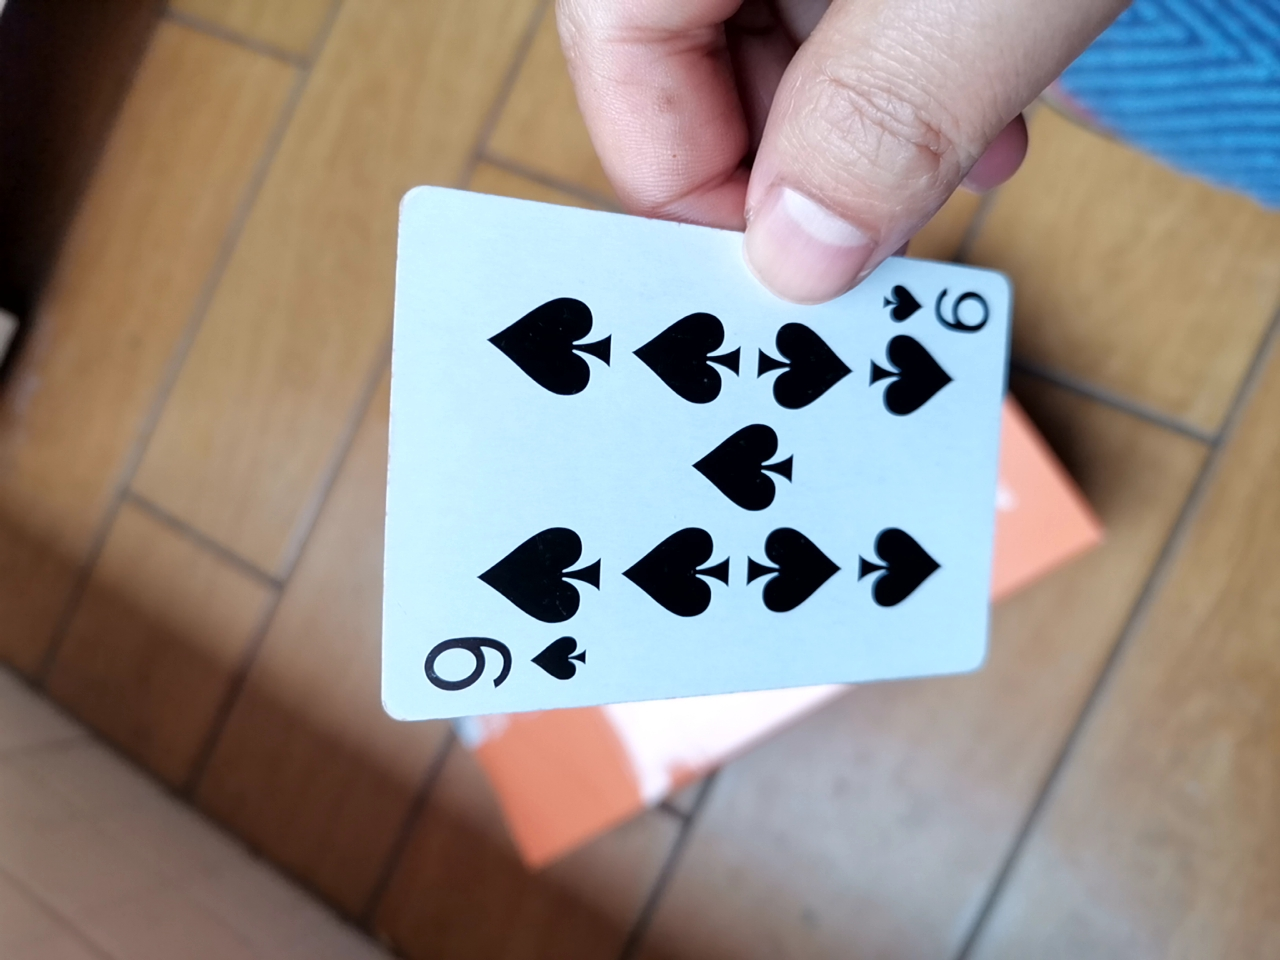ht 9: (365, 186, 1007, 759)
